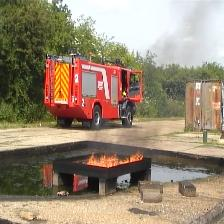fire: (87, 152, 143, 168)
